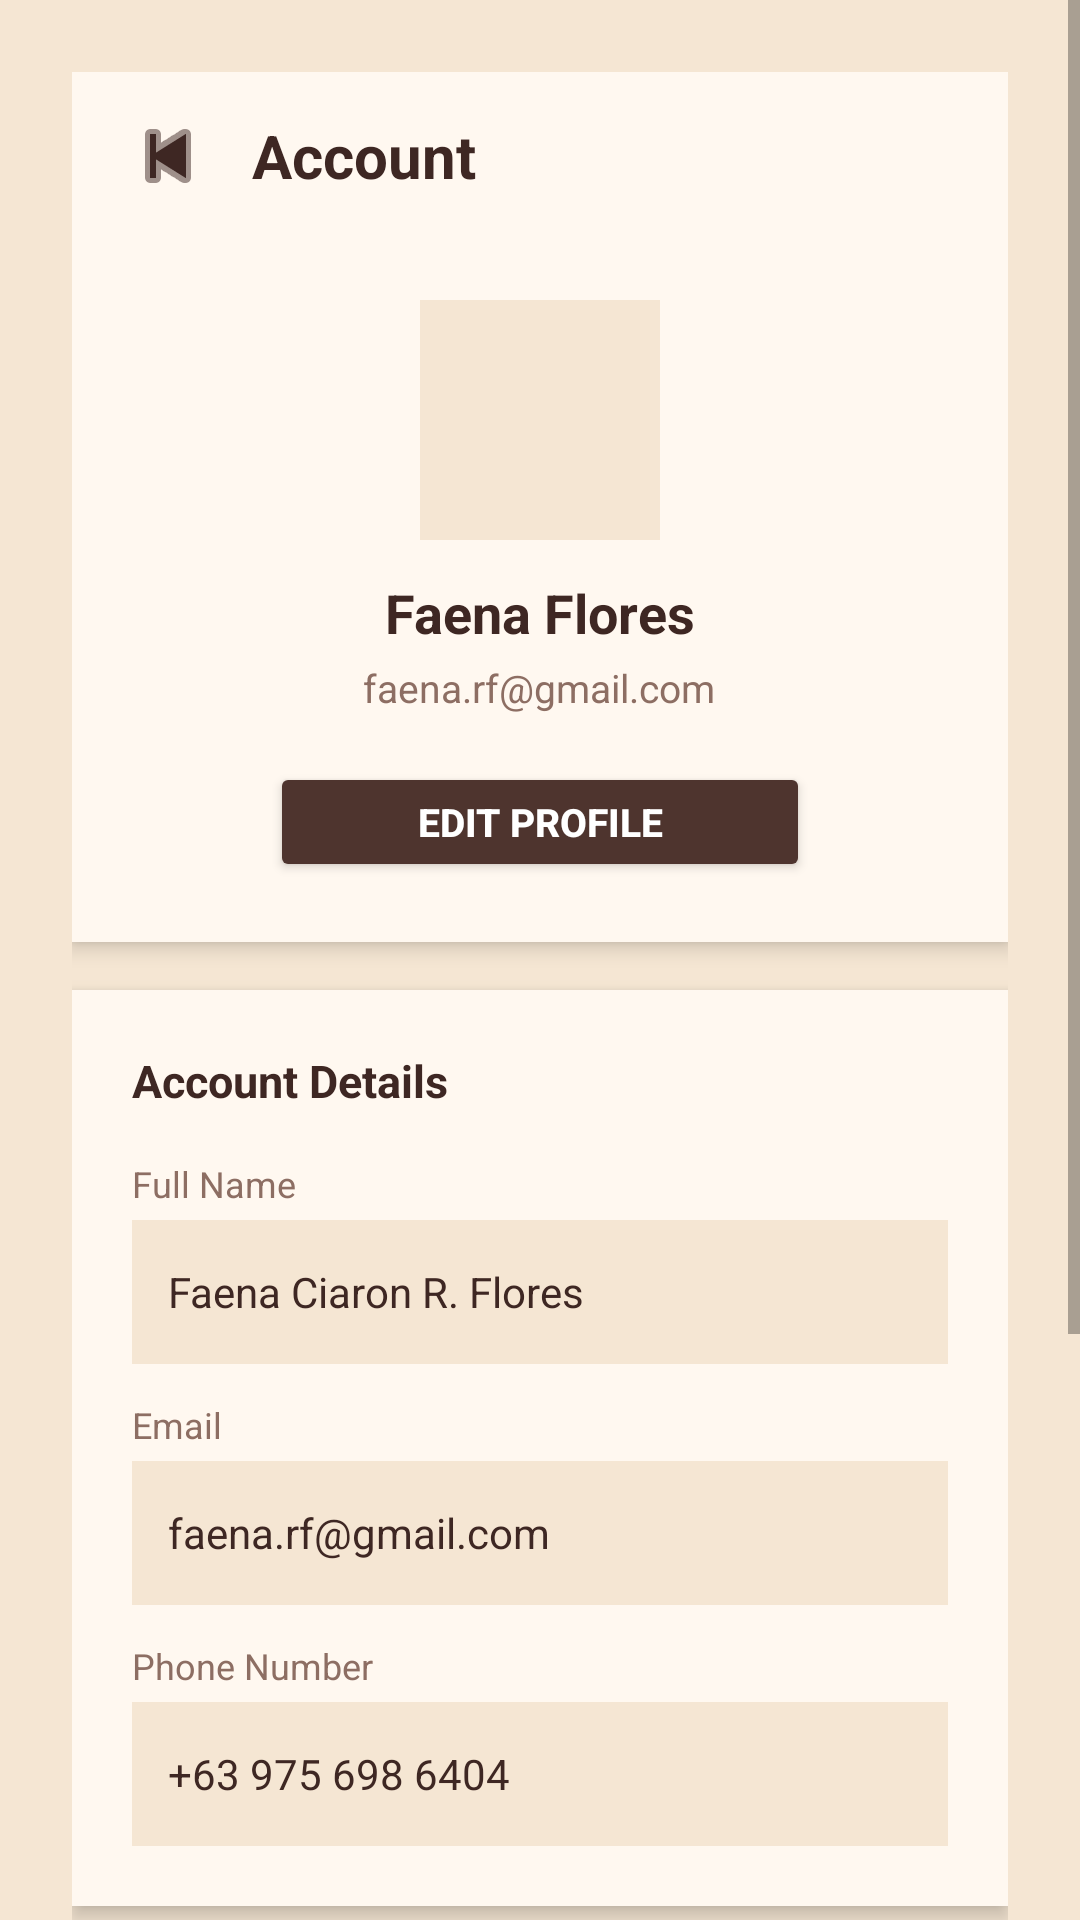

Named icons in this screenshot (1080*1920) and their centers, [x,y]:
Back: [168,156]
